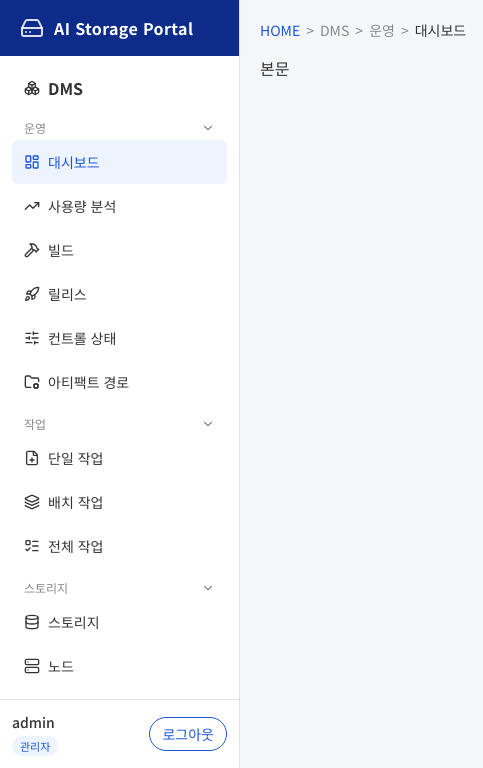
Test: 배치 작업은 작업 그룹 안에 있다 -- 운영을 접어도 보이고, 작업을 접으면 함께 숨는다
The width and height of the screenshot is (483, 768).
Expected: the link "배치 작업" is shown, [24,492,104,512]
Click the button "운영" at (120, 124), box [12,108,227,140]
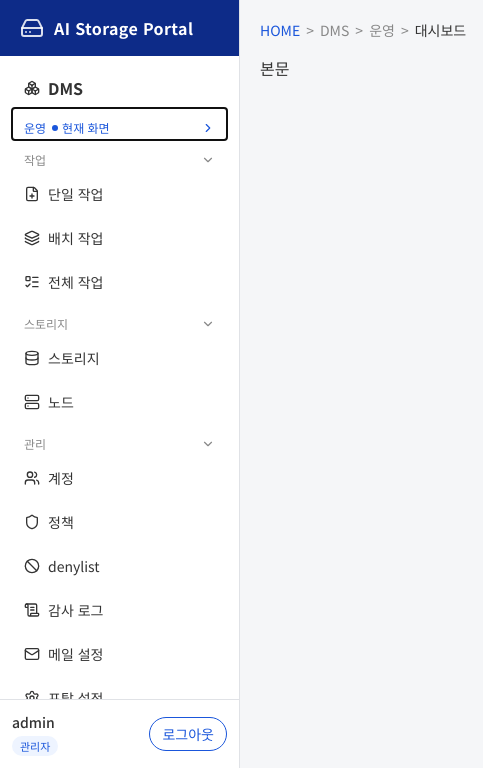
Expected: the link "배치 작업" is shown, [24,228,104,248]
Click the button "작업" at (120, 156), box [12,140,227,172]
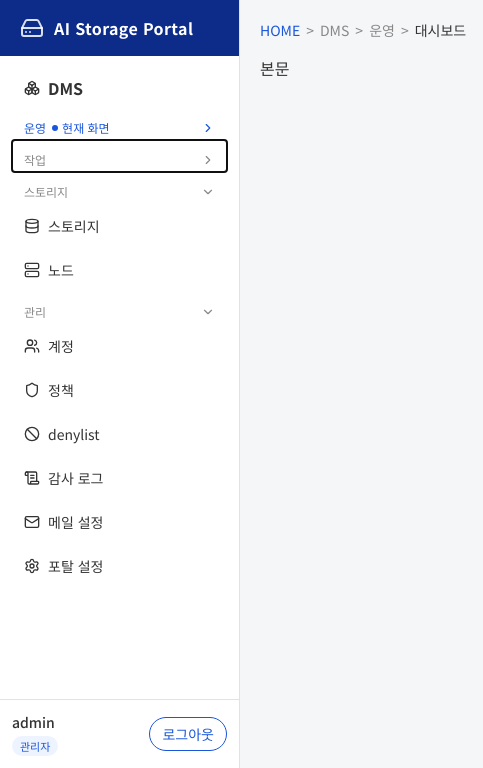
Expected: the link "배치 작업" is gone
